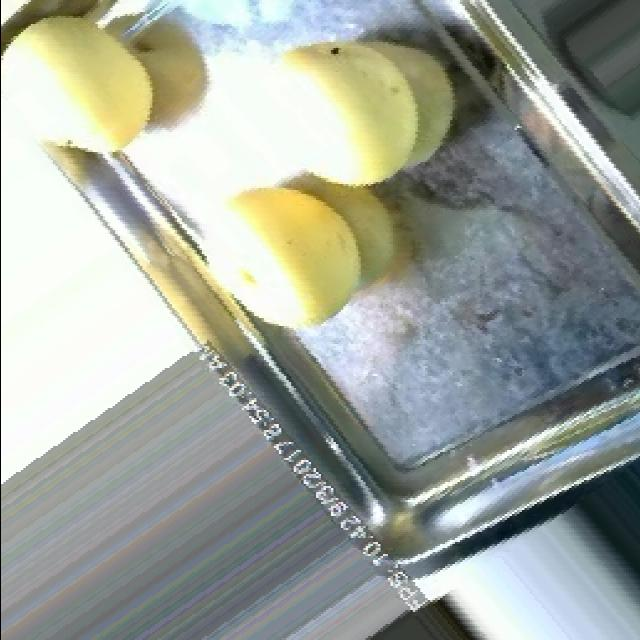Fruit: (260, 4, 477, 210), (0, 0, 171, 174), (210, 166, 374, 344)
